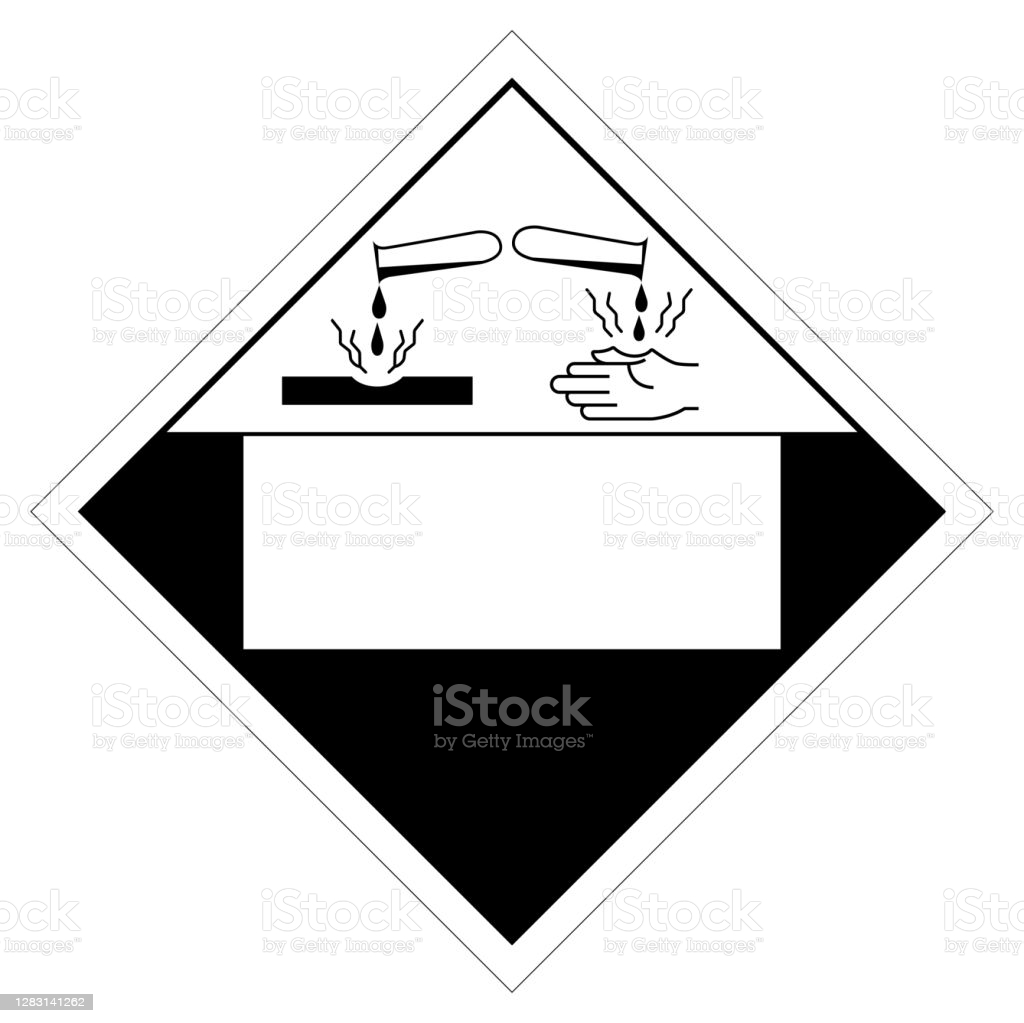Corrosive: (28, 31, 997, 994)
